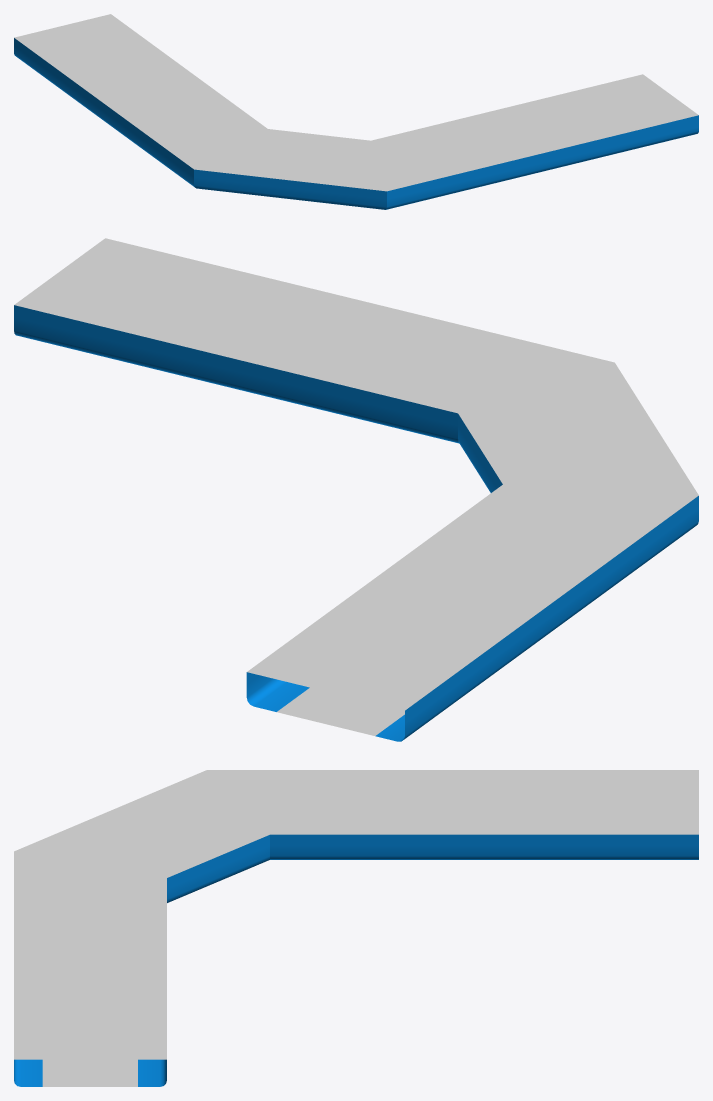
File: Corridor_part_lighttube_corner_II.fbx
The picture shows the model from 3 angles, top to bottom: view 1: azimuth 30°, elevation 25°; view 2: azimuth 150°, elevation 25°; view 3: azimuth 270°, elevation 25°; orthographic projection. The views are drawn at different scales.
Visible parts, largest first — view 1: Corridor_part_lighttube_corner_II; view 2: Corridor_part_lighttube_corner_II; view 3: Corridor_part_lighttube_corner_II.
Part boxes in pixels (left/top/right/bottom): Corridor_part_lighttube_corner_II: left=14, top=14, right=698, bottom=209; Corridor_part_lighttube_corner_II: left=14, top=238, right=698, bottom=741; Corridor_part_lighttube_corner_II: left=14, top=770, right=698, bottom=1086.
Size of the model in its own units: 450 by 19.9 by 450.
